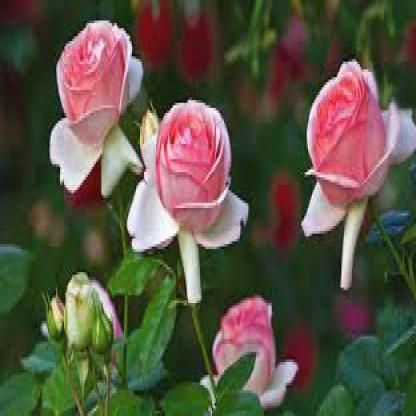Rose-Mawar: (38, 19, 236, 322), (299, 22, 415, 255), (198, 294, 297, 414)
